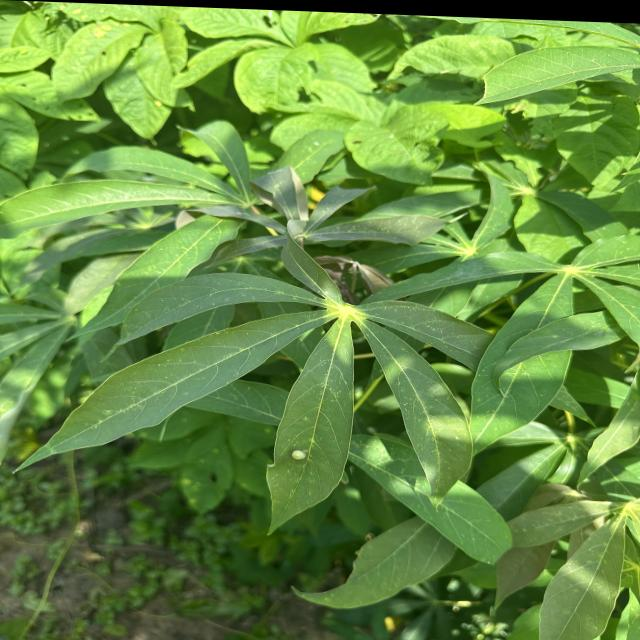Maleza: (141, 0, 502, 145), (0, 0, 232, 136), (143, 422, 268, 538), (534, 91, 640, 191)
Mosca: (290, 440, 311, 464)
